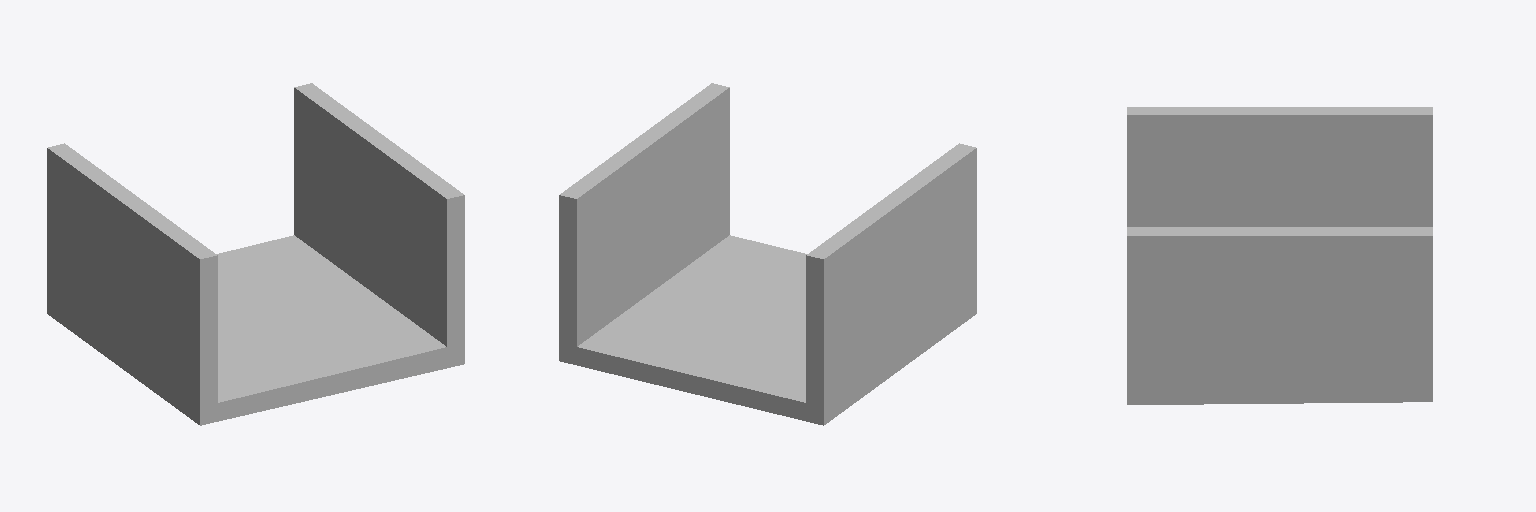
File: floor.obj
The picture shows the model from 3 angles: view 1: azimuth 30°, elevation 25°; view 2: azimuth 150°, elevation 25°; view 3: azimuth 270°, elevation 25°; orthographic projection.
Parts seen in each view (by area): view 1: Cube_Cube.001; view 2: Cube_Cube.001; view 3: Cube_Cube.001.
Boxes of the visible parts, x1,y1,x2,y2 form: Cube_Cube.001: [47, 83, 464, 425]; Cube_Cube.001: [559, 83, 976, 425]; Cube_Cube.001: [1127, 107, 1432, 404].
Bounding box in the file's own units: 15 × 9.17 × 15.